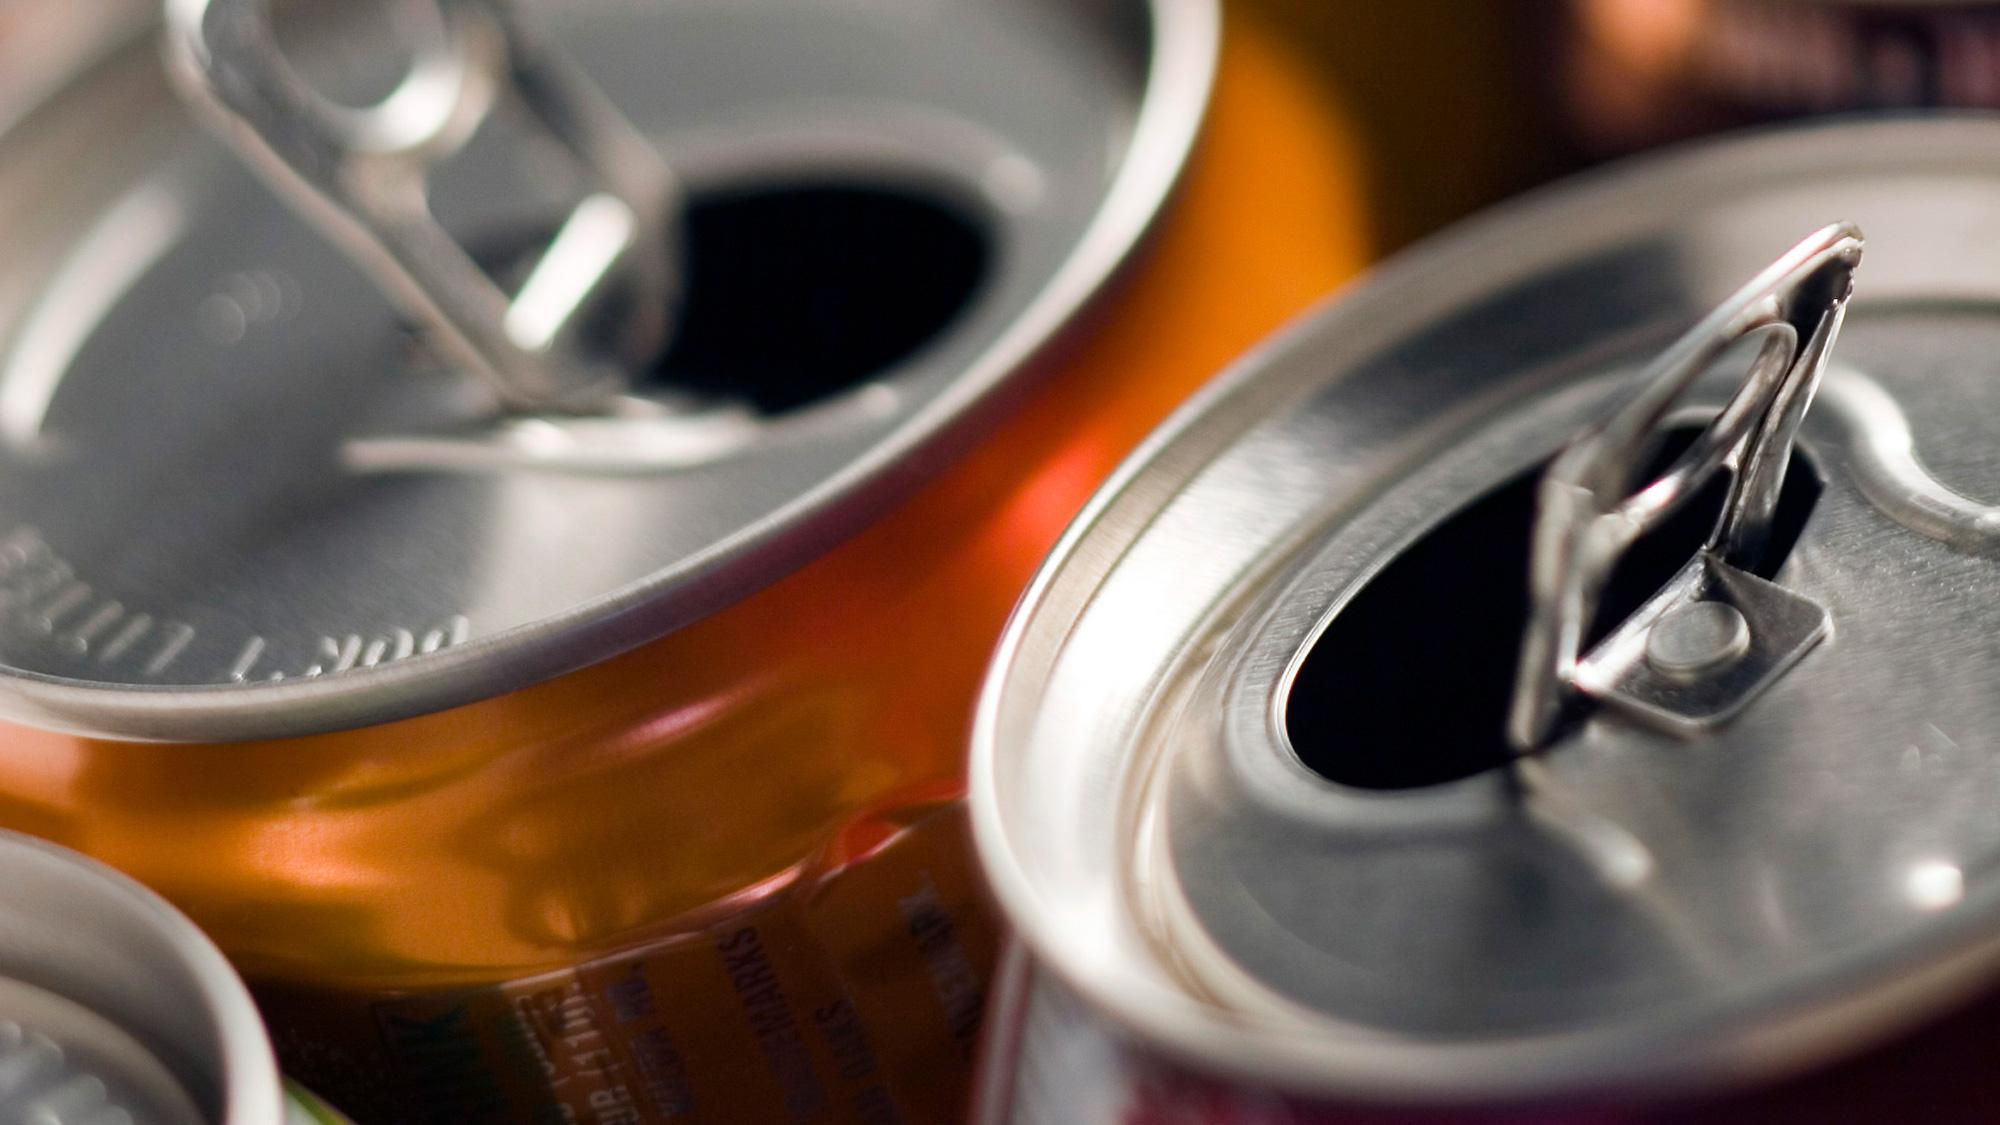metal: (990, 114, 2000, 1125), (0, 0, 1272, 791)
